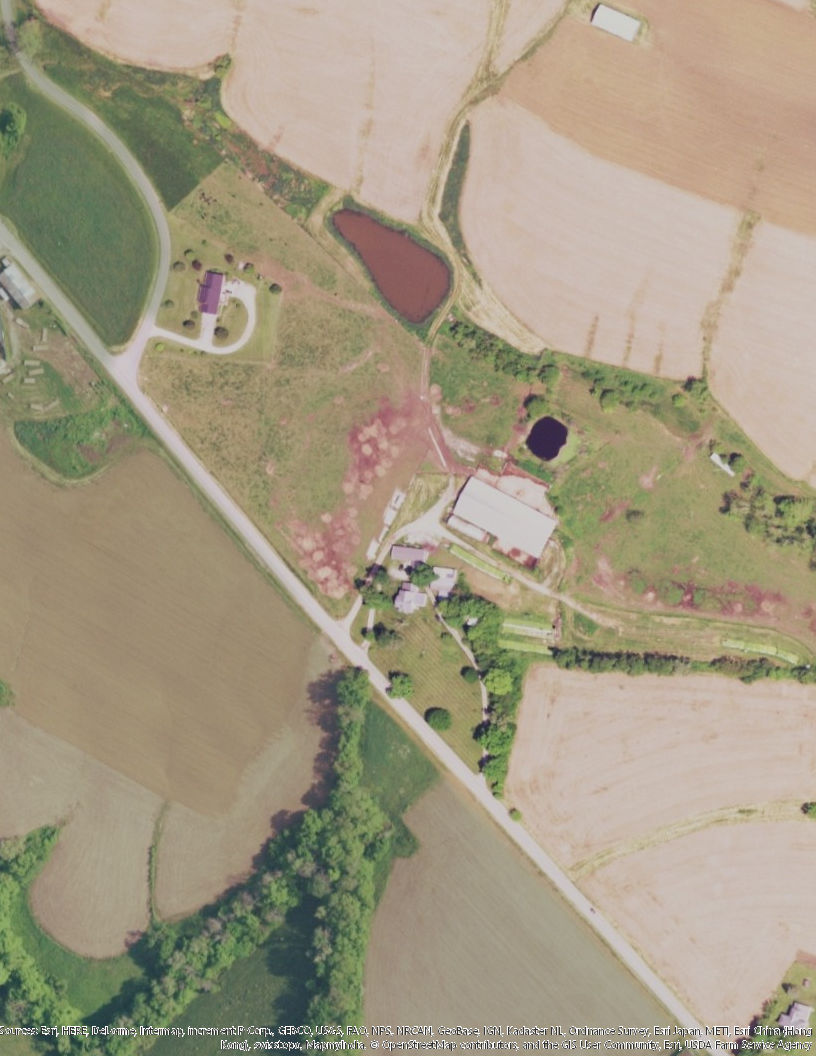cafo: (443, 464, 567, 569)
